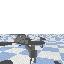drone: (0, 34, 45, 64)
